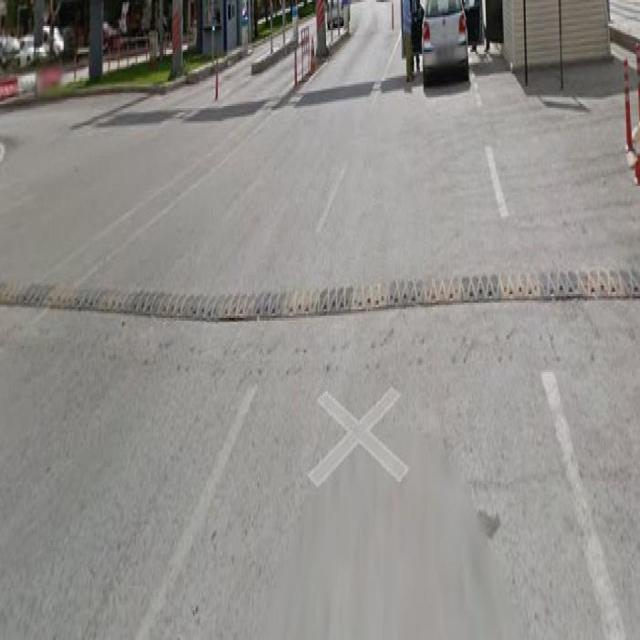Speed_Breaker: (0, 255, 640, 327), (0, 266, 639, 322)
